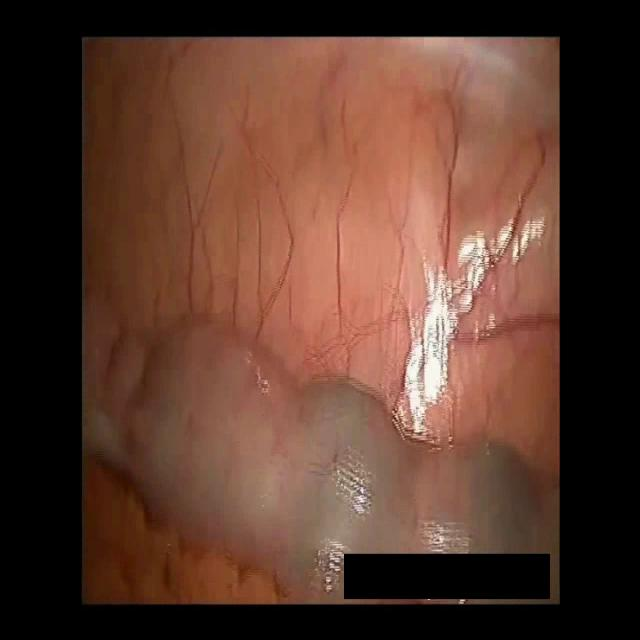surgical-area: (82, 38, 558, 602)
